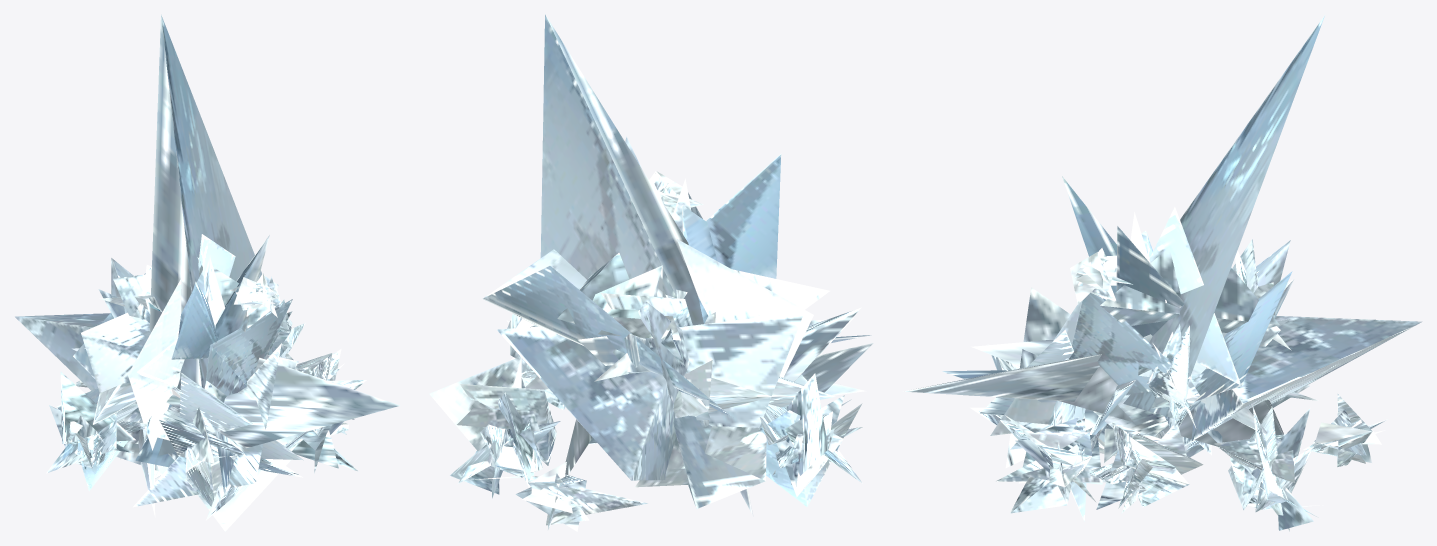
File: kristallin.glb
The picture shows the model from 3 angles, left to right: view 1: azimuth 30°, elevation 25°; view 2: azimuth 150°, elevation 25°; view 3: azimuth 270°, elevation 25°; orthographic projection. The views are drawn at different scales.
Visible parts, largest first — view 1: kristallin; view 2: kristallin; view 3: kristallin.
Part boxes in pixels (bbox=[...]): kristallin: bbox=[15, 14, 399, 531]; kristallin: bbox=[429, 14, 873, 531]; kristallin: bbox=[903, 15, 1422, 531].
Bounding box in the file's own units: 178 × 249 × 222.
1 material, 1 textured.
